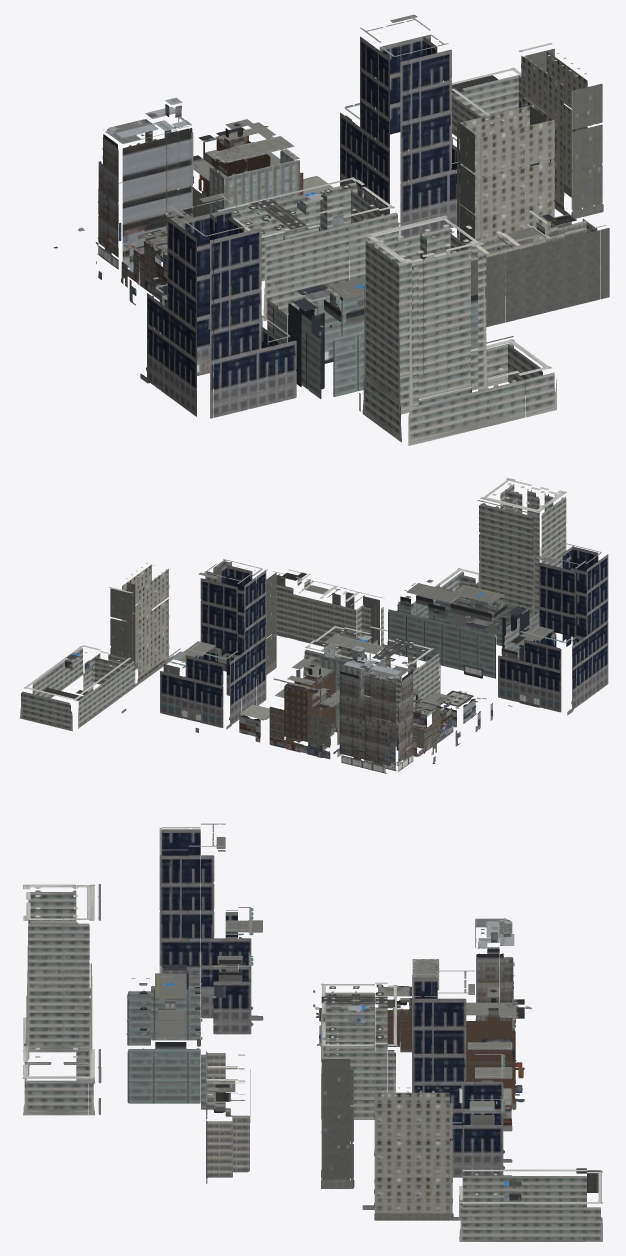
File: block-citya-3-imp.glb
The picture shows the model from 3 angles, top to bottom: view 1: azimuth 30°, elevation 25°; view 2: azimuth 150°, elevation 25°; view 3: azimuth 270°, elevation 25°; orthographic projection. The views are drawn at different scales.
Parts seen in each view (by area): view 1: block-citya-3-imp; view 2: block-citya-3-imp; view 3: block-citya-3-imp.
Part boxes in pixels (left/top/right/bottom): block-citya-3-imp: left=54, top=14, right=609, bottom=445; block-citya-3-imp: left=20, top=478, right=608, bottom=773; block-citya-3-imp: left=22, top=823, right=602, bottom=1241.
Bounding box in the file's own units: 72 × 22.45 × 72.
Materials: 1 (1 with a texture image).
